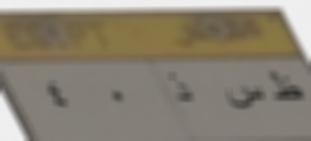0: (105, 82, 133, 115)
4: (35, 79, 74, 111)
Thaa: (265, 70, 307, 107)
seen: (215, 80, 264, 114)
zaal: (163, 68, 198, 109)
